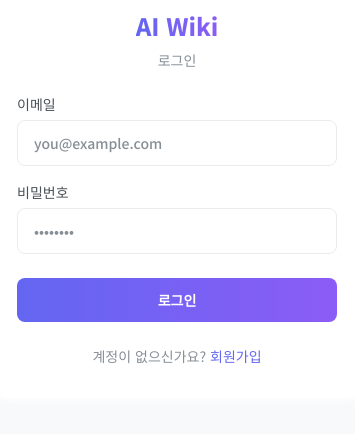
AuthForm 컴포넌트 › login 모드 › 로그인 실패 시 에러 메시지를 표시한다
The width and height of the screenshot is (355, 434).
Type "wrong@example.com" into the field with placeholder "you@example.com" at coordinates (177, 143), box [17, 120, 337, 166]
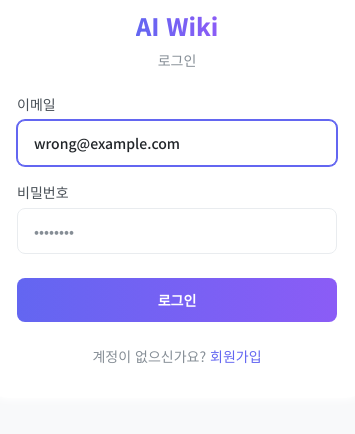
Type "wrongpassword" into the password field with placeholder "••••••••" at coordinates (177, 231), box [17, 208, 337, 254]
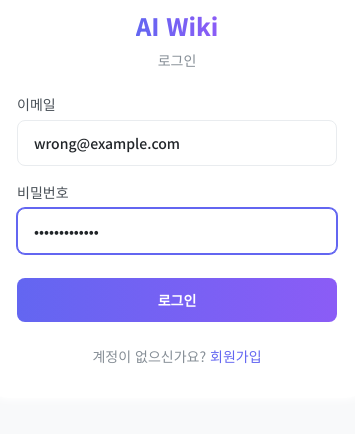
Click the button "로그인" at coordinates (177, 300), box [17, 278, 337, 322]
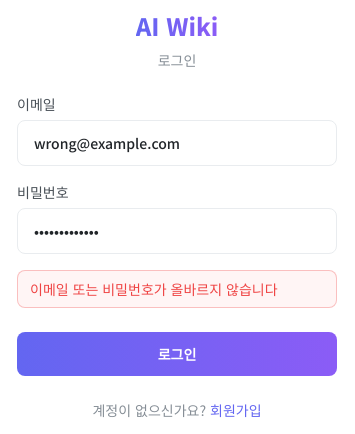
Result: the text "이메일 또는 비밀번호가 올바르지 않습니다" is shown at [17, 270, 337, 308]
